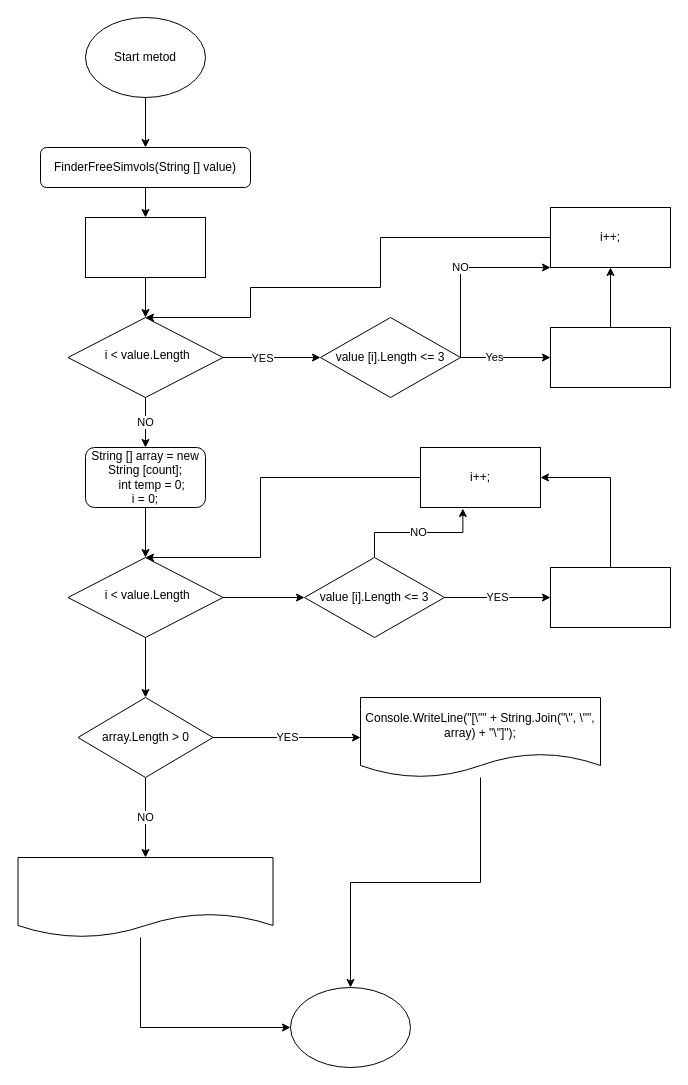
This 688x1085 diagram has some shape labels left out. Each missing label, with the box of its shape:
array[temp] = value [i]; temp++;: (550, 566, 670, 628)
Close Metod: (290, 986, 410, 1068)
Console.WriteLine("[]");: (17, 856, 273, 938)
count++;: (550, 326, 670, 388)
int count = 0; i = 0;: (84, 216, 206, 278)
